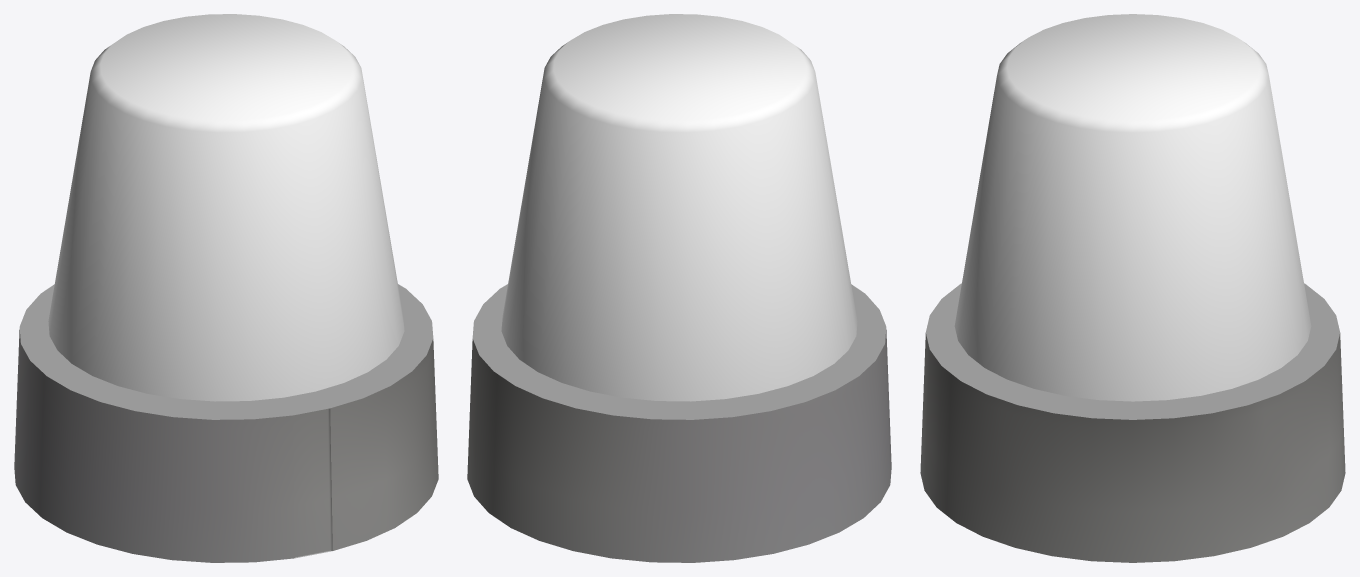
The model's file is Siren.fbx.
3 renders of one model, left to right at view 1: azimuth 30°, elevation 25°; view 2: azimuth 150°, elevation 25°; view 3: azimuth 270°, elevation 25°, orthographic.
Parts seen in each view (by area): view 1: Siren_Top, Siren_Base; view 2: Siren_Top, Siren_Base; view 3: Siren_Top, Siren_Base.
Boxes of the visible parts, left/top/right/bottom form: Siren_Top: left=48, top=14, right=404, bottom=401; Siren_Base: left=14, top=284, right=438, bottom=562; Siren_Top: left=501, top=14, right=857, bottom=401; Siren_Base: left=467, top=284, right=891, bottom=562; Siren_Top: left=954, top=14, right=1311, bottom=401; Siren_Base: left=920, top=283, right=1345, bottom=562.
Bounding box in the file's own units: 92.96 × 97.95 × 92.96.
Materials: 2 (1 with a texture image).
